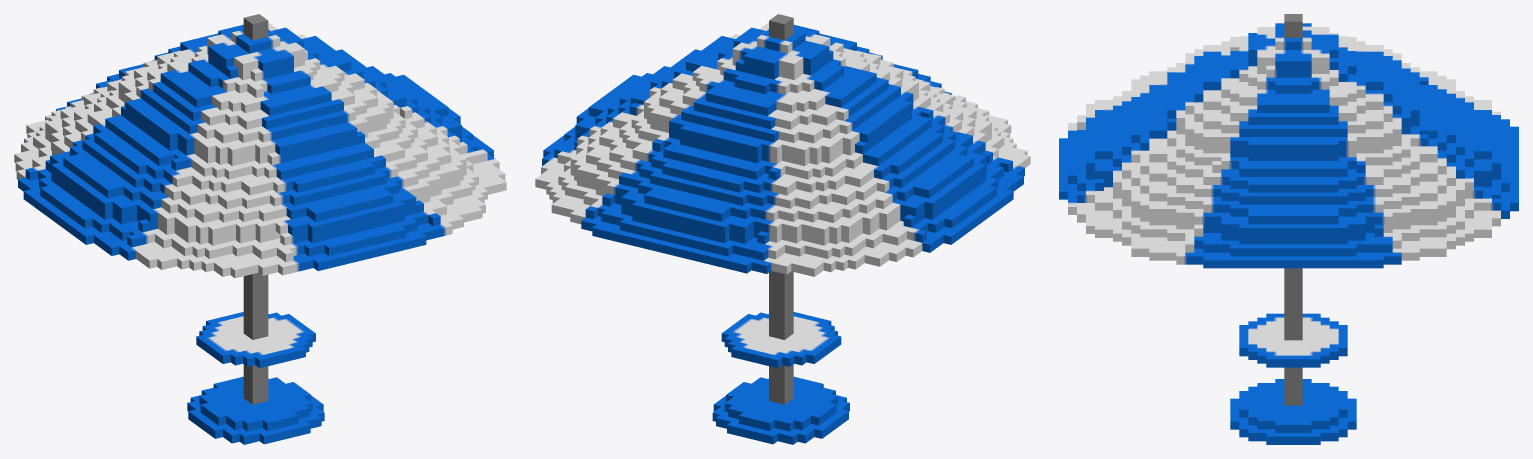
Rendered from parasol_table_Blue.fbx.
3 renders of one model, left to right at view 1: azimuth 30°, elevation 25°; view 2: azimuth 150°, elevation 25°; view 3: azimuth 270°, elevation 25°, orthographic.
Visible parts, largest first — view 1: parasol_table_Blue; view 2: parasol_table_Blue; view 3: parasol_table_Blue.
Part boxes in pixels (<box>): parasol_table_Blue: <box>14,14,506,444</box>; parasol_table_Blue: <box>535,14,1030,444</box>; parasol_table_Blue: <box>1059,14,1518,444</box>.
Bounding box in the file's own units: 51 × 49 × 51.
